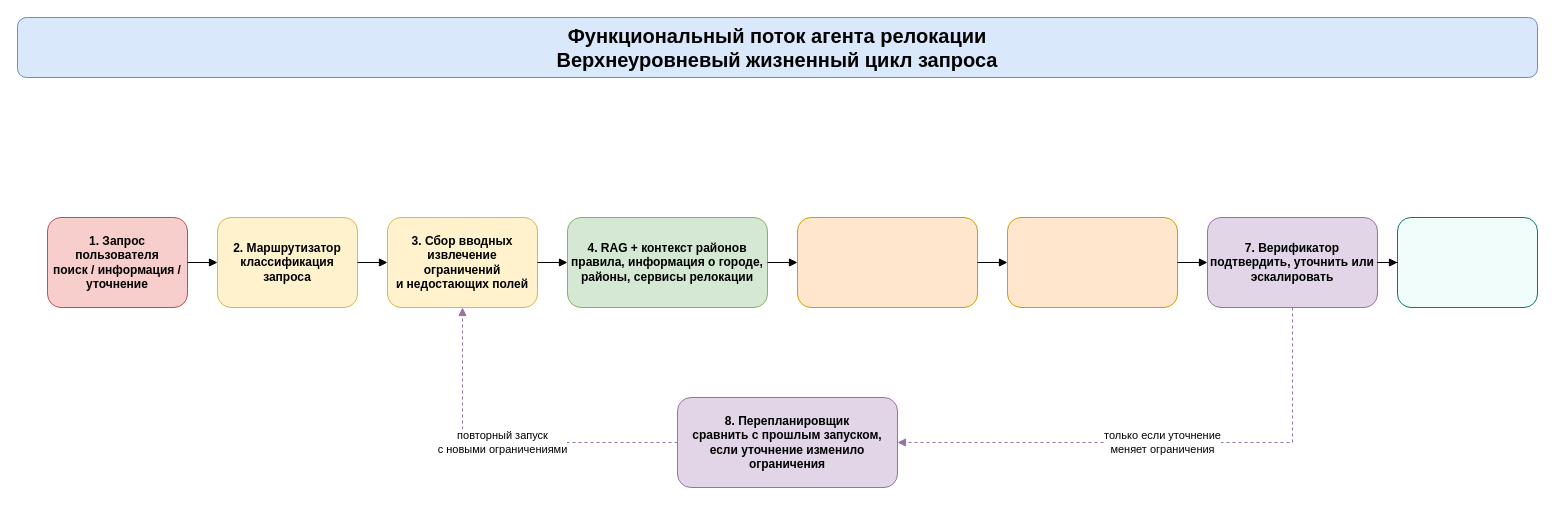
The diagram is 1555 pixels wide and 505 high, and some of its shapes have lost their labels. The shapes that lost their labels are listed below. From the top down, each one's centre as x and y in pixels, then its label:
point 887,262: 5. Поиск объявлений SQLite и опциональные MCP-источники
point 1092,262: 6. Скоринг ранжирование, оценка стоимости, компромиссы
point 1467,262: 9. Итоговый ответ шорт-лист, обоснование, риски, уточнения, источники
